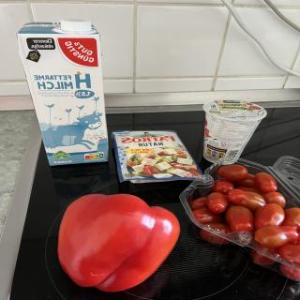bell_pepper: (49, 190, 187, 292)
tomato: (183, 168, 300, 284)
